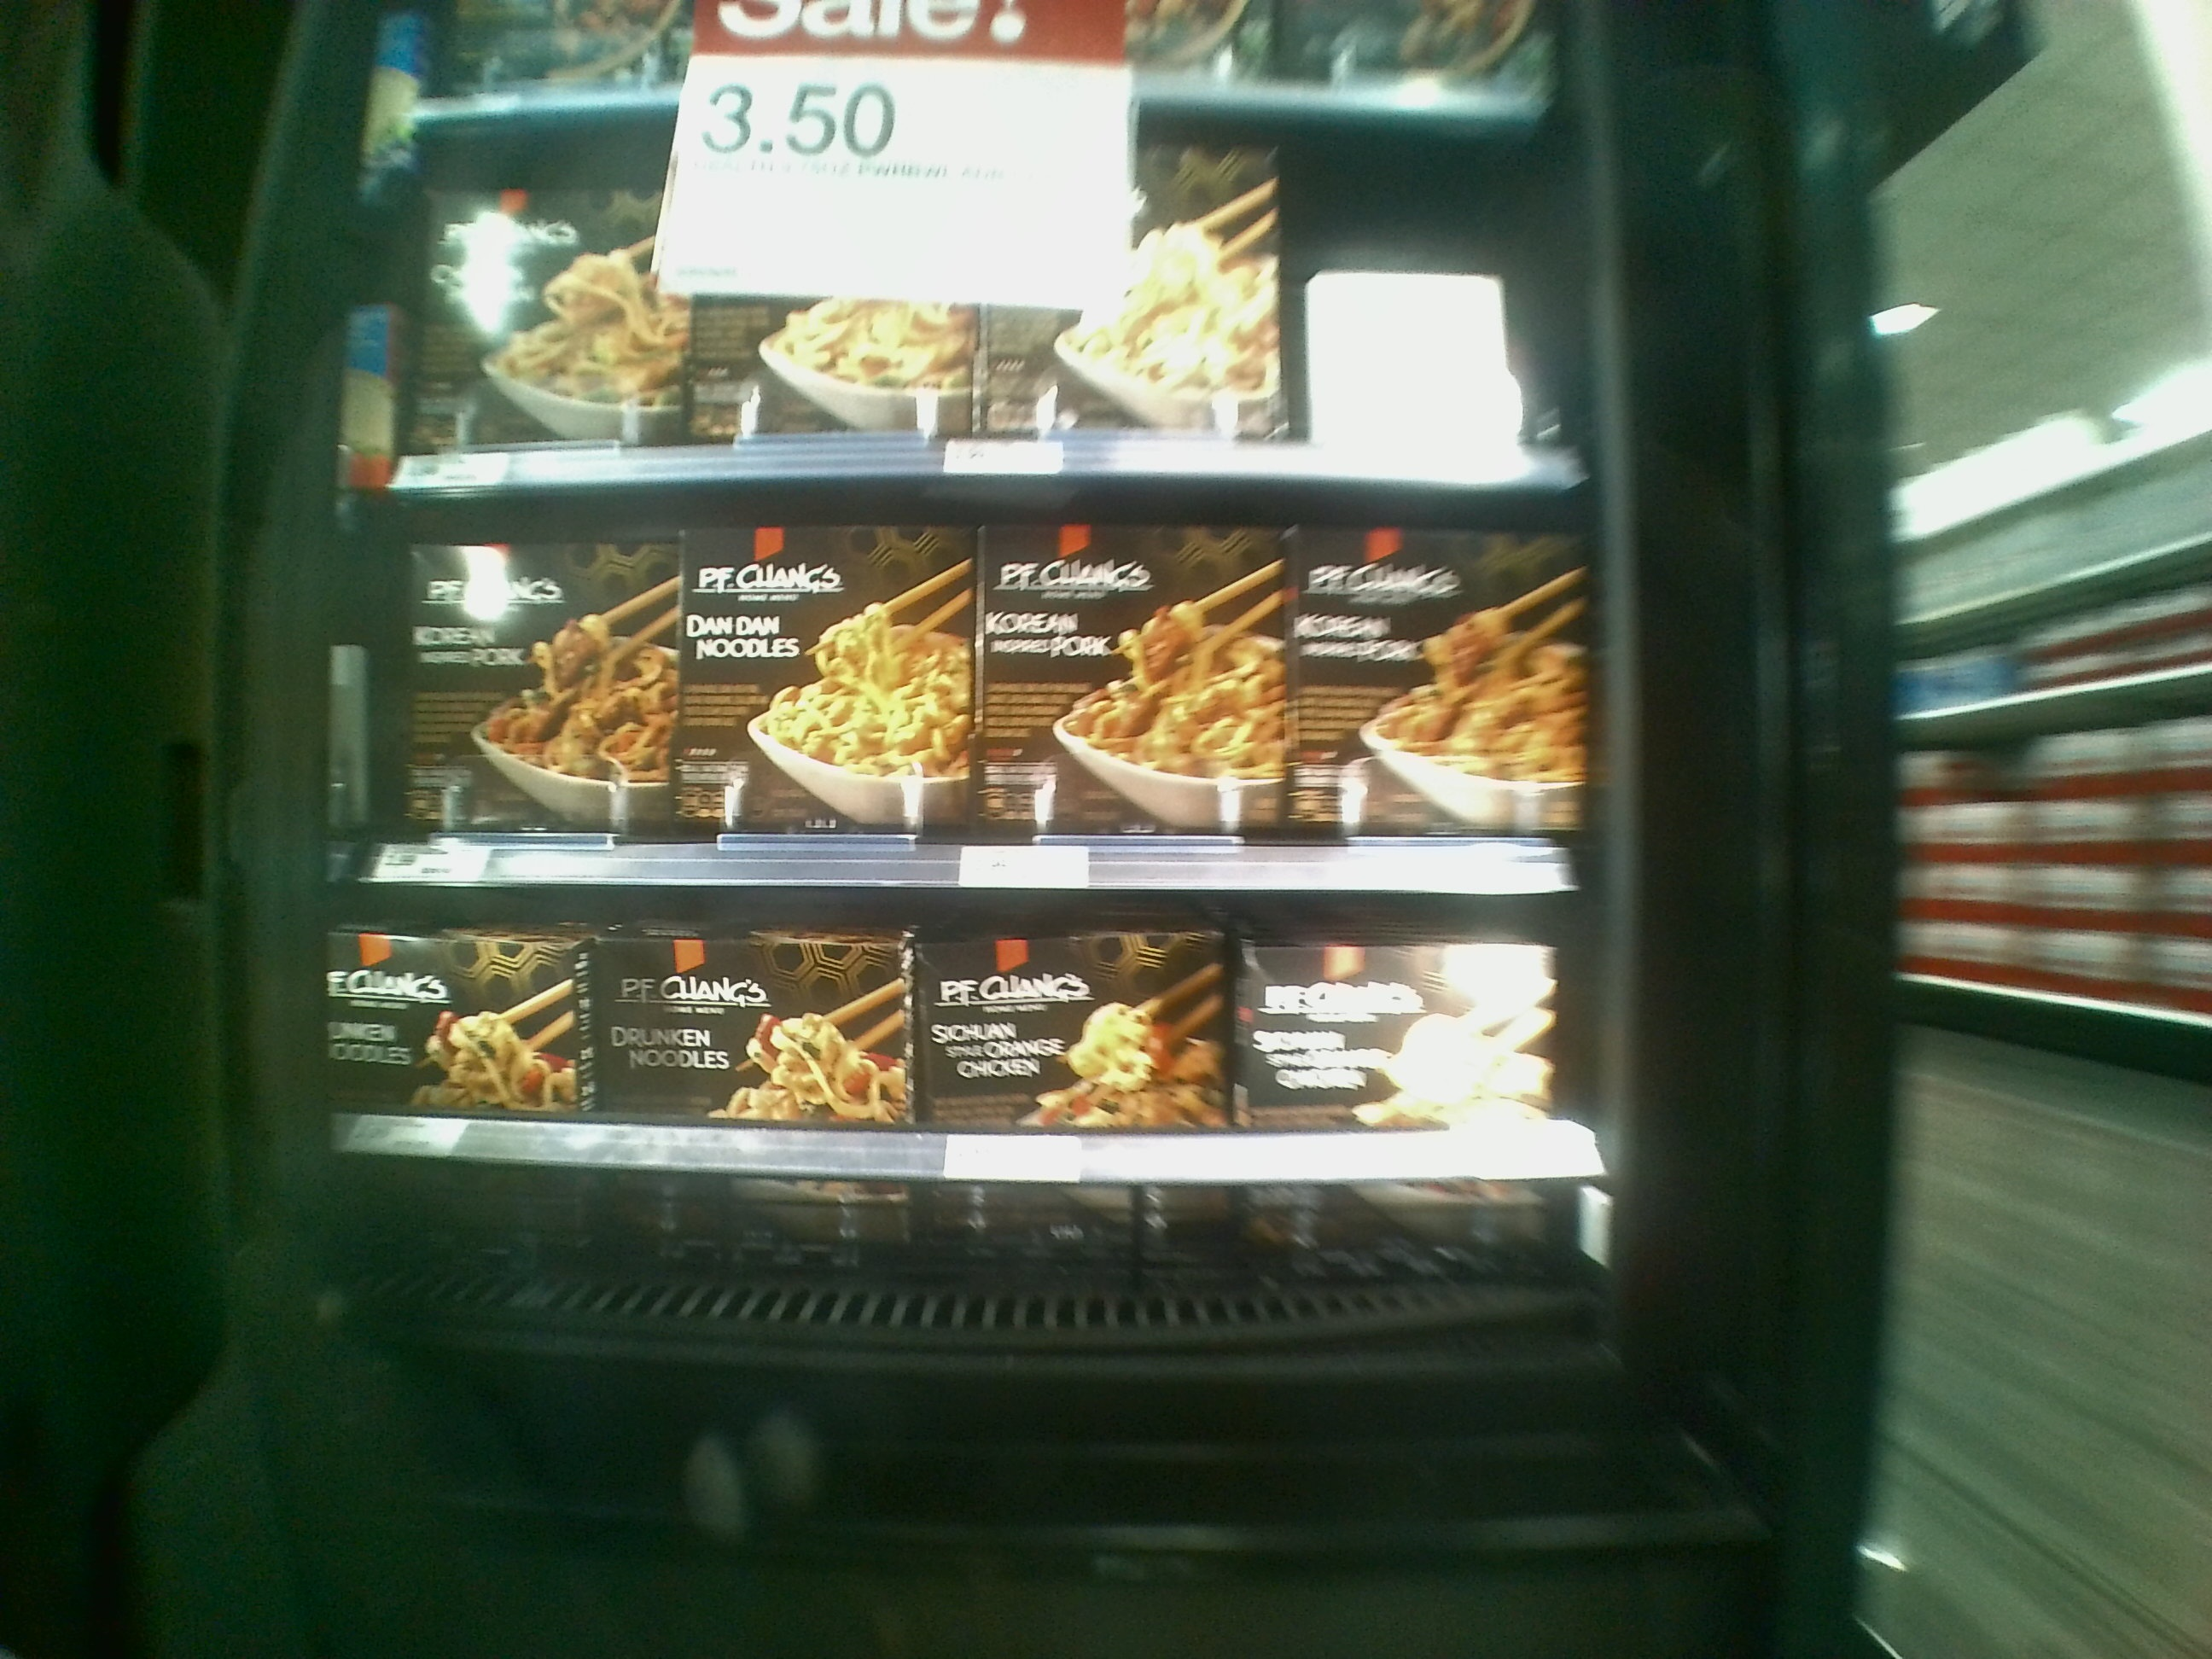shelf: (333, 878, 1597, 1178)
